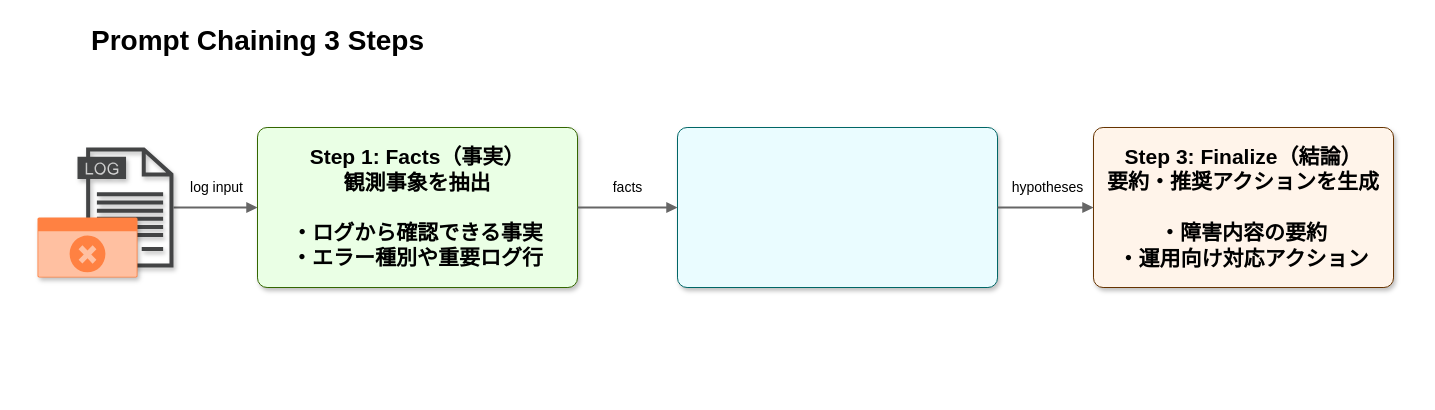
Some shapes in this 1435 by 410 pixel diagram are drawn without their labels. Here are the shapes that lost their labels. From the top down, the centre of each, then its label:
At (838,208): "Step 2: Hypotheses（仮説） 原因仮説を生成 ・考えられるエラー原因 ・推論根拠と confidence".
At (88,248): "Error".
